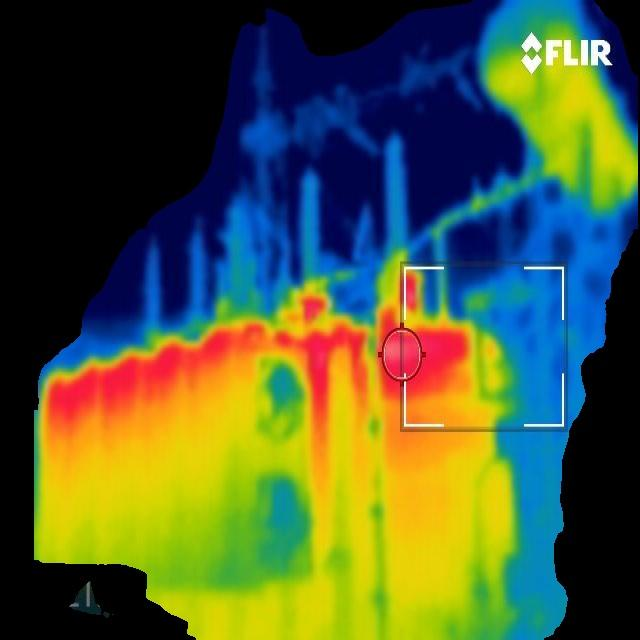Full Wire Overload PF: (421, 180, 528, 241)
Loose Joint F: (381, 272, 419, 319), (288, 300, 328, 326)
Transformer Overload: (38, 316, 524, 596)
